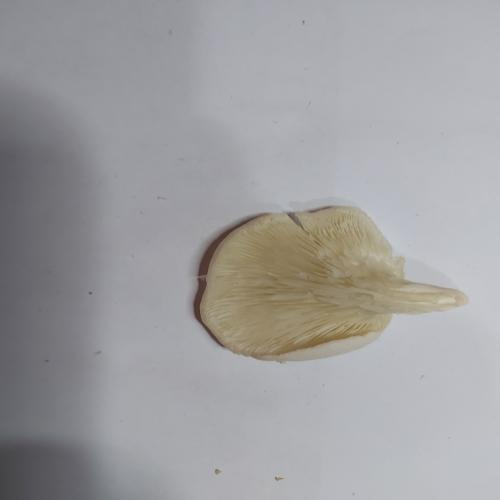Oyster Mushroom: (197, 204, 469, 363)
